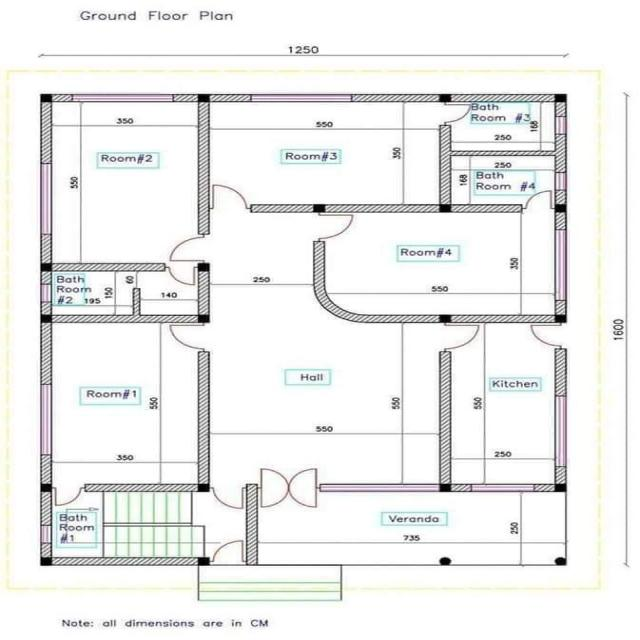column: (195, 92, 213, 105), (310, 202, 328, 215), (37, 556, 58, 567), (552, 202, 571, 214), (438, 92, 454, 105), (38, 92, 55, 104), (436, 203, 454, 214), (436, 482, 454, 493), (438, 555, 453, 568), (552, 92, 568, 104), (196, 555, 212, 567), (552, 482, 568, 494), (195, 314, 212, 325), (552, 556, 569, 567), (196, 482, 212, 493), (39, 313, 54, 324), (39, 482, 54, 493), (38, 262, 54, 272), (437, 314, 453, 324), (553, 314, 569, 324), (196, 262, 211, 272)
